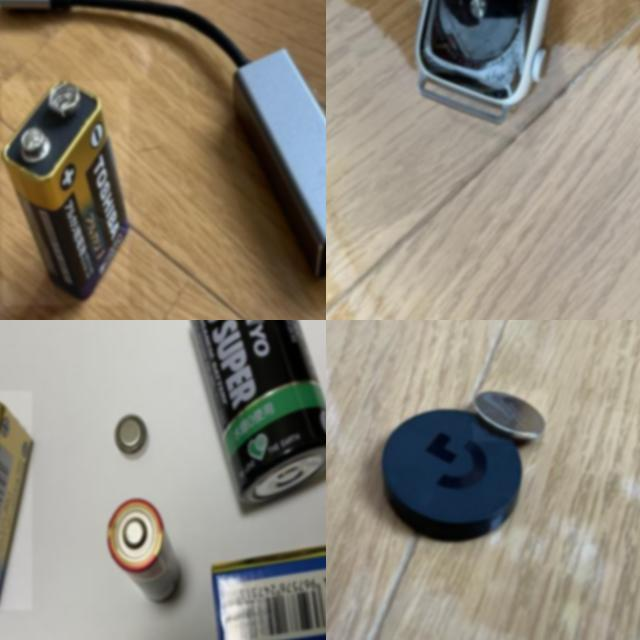9V: (2, 81, 129, 304), (211, 542, 326, 640), (0, 391, 32, 610)
